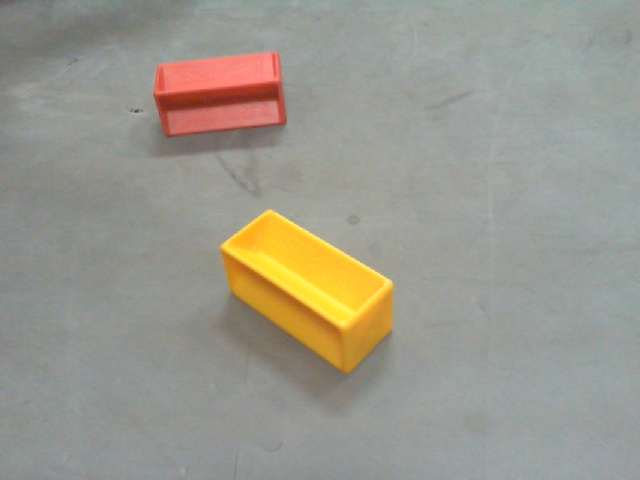RedSample: (151, 51, 291, 142)
YellowSample: (222, 210, 397, 373)
